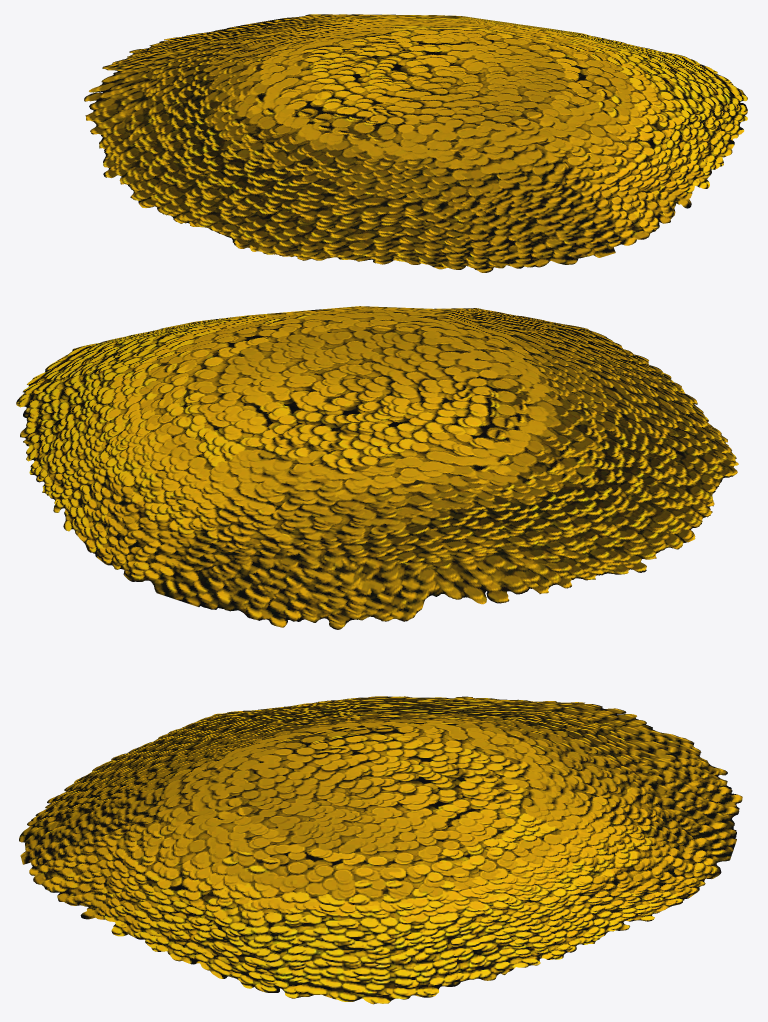
Rendered from INST_SM_GOLDPILE_SMALLC.fbx.
3 renders of one model, top to bottom at view 1: azimuth 30°, elevation 25°; view 2: azimuth 150°, elevation 25°; view 3: azimuth 270°, elevation 25°, orthographic. The views are drawn at different scales.
Parts seen in each view (by area): view 1: INST_SM_GOLDPILE_SMALLC; view 2: INST_SM_GOLDPILE_SMALLC; view 3: INST_SM_GOLDPILE_SMALLC.
Part boxes in pixels (bbox=[...]): INST_SM_GOLDPILE_SMALLC: bbox=[84, 14, 747, 272]; INST_SM_GOLDPILE_SMALLC: bbox=[16, 306, 738, 629]; INST_SM_GOLDPILE_SMALLC: bbox=[19, 696, 742, 1004].
Bounding box in the file's own units: 66250 × 6450 × 66250.
Materials: 1 (1 with a texture image).
